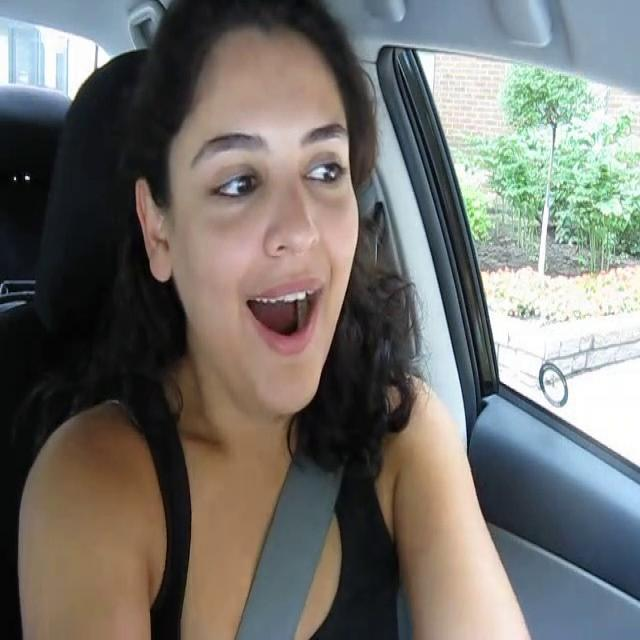open-mouth: (242, 274, 328, 358)
